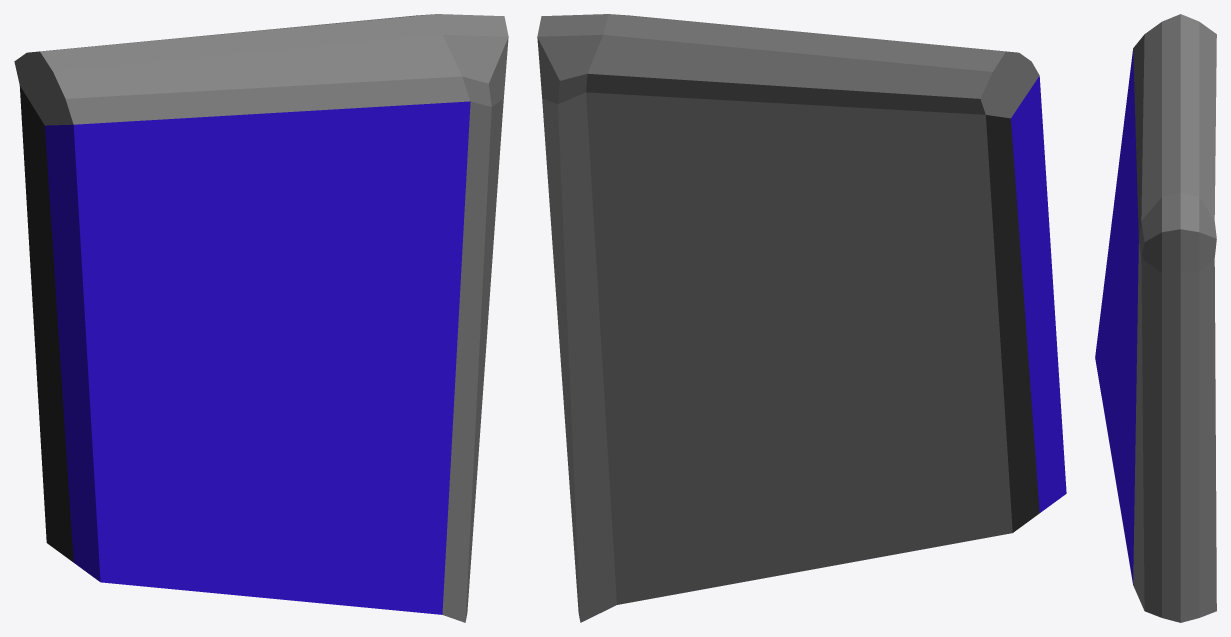
The model's file is ArmorRU.fbx.
3 views of the same model, side by side, from view 1: azimuth 30°, elevation 25°; view 2: azimuth 150°, elevation 25°; view 3: azimuth 270°, elevation 25° (orthographic). The views are drawn at different scales.
Visible parts, largest first — view 1: Armor.RU; view 2: Armor.RU; view 3: Armor.RU.
Boxes of the visible parts, x1,y1,x2,y2 form: Armor.RU: (14, 14, 508, 622); Armor.RU: (537, 14, 1066, 622); Armor.RU: (1095, 14, 1216, 622).
Size of the model in its own units: 19.92 by 26.86 by 6.4.
